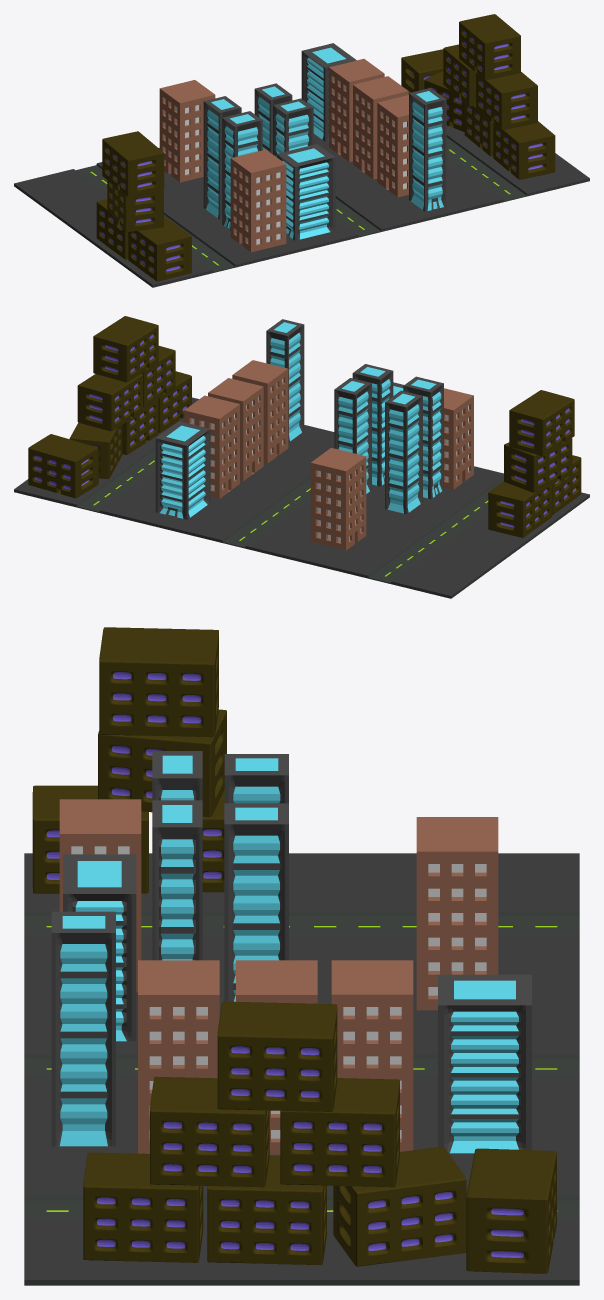
Rendered from city.fbx.
3 renders of one model, top to bottom at view 1: azimuth 30°, elevation 25°; view 2: azimuth 150°, elevation 25°; view 3: azimuth 270°, elevation 25°, orthographic. The views are drawn at different scales.
Visible parts, largest first — view 1: Cube, Cube.003, Cube.016, Cube.013, Cube.009, Cube.008, Cube.023, Cube.006, Cube.012, Cube.017, Cube.021, Cube.011 (+12 smaller); view 2: Cube, Cube.009, Cube.005, Cube.001, Cube.020, Cube.023, Cube.008, Cube.010, Cube.022, Cube.014, Cube.012, Cube.013 (+11 smaller); view 3: Cube, Cube.005, Cube.013, Cube.009, Cube.023, Cube.008, Cube.019, Cube.017, Cube.021, Cube.022, Cube.020, Cube.014 (+12 smaller).
Part boxes in pixels (<box>): Cube: <box>14,125,589,287</box>; Cube.003: <box>230,149,286,252</box>; Cube.016: <box>276,144,335,240</box>; Cube.013: <box>409,88,446,211</box>; Cube.009: <box>159,80,215,182</box>; Cube.008: <box>102,131,164,197</box>; Cube.023: <box>459,14,520,79</box>; Cube.006: <box>128,216,191,281</box>; Cube.012: <box>377,95,408,197</box>; Cube.017: <box>493,121,555,179</box>; Cube.021: <box>476,72,537,130</box>; Cube.011: <box>353,76,408,179</box>; Cube: <box>14,397,589,598</box>; Cube.009: <box>310,448,366,550</box>; Cube.005: <box>155,421,210,519</box>; Cube.001: <box>385,390,422,514</box>; Cube.020: <box>28,434,98,498</box>; Cube.023: <box>93,316,158,382</box>; Cube.008: <box>509,390,574,456</box>; Cube.010: <box>184,395,239,498</box>; Cube.022: <box>77,373,142,431</box>; Cube.014: <box>334,378,371,493</box>; Cube.012: <box>232,360,288,463</box>; Cube.013: <box>266,319,304,442</box>; Cube: <box>24,853,579,1285</box>; Cube.005: <box>438,974,531,1153</box>; Cube.013: <box>51,911,115,1146</box>; Cube.009: <box>416,817,498,1010</box>; Cube.023: <box>217,1001,337,1111</box>; Cube.008: <box>99,627,218,737</box>; Cube.019: <box>333,1146,466,1266</box>; Cube.017: <box>83,1152,203,1262</box>; Cube.021: <box>150,1076,269,1187</box>; Cube.022: <box>280,1078,399,1187</box>; Cube.020: <box>466,1148,556,1273</box>; Cube.014: <box>224,803,288,1001</box>.
Size of the model in its own units: 62143 by 15480 by 33786.
